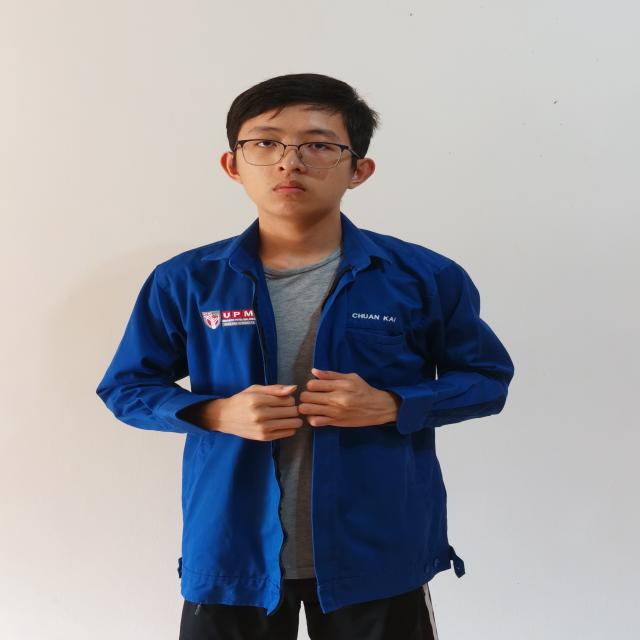person_with_labcoat: (98, 74, 513, 640)
